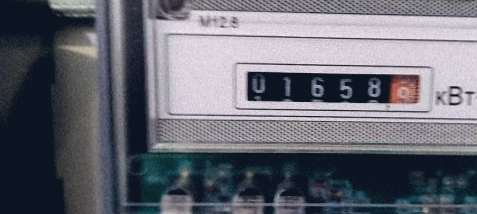0: (249, 72, 266, 93)
1: (279, 73, 293, 97)
5: (337, 75, 353, 99)
6: (308, 74, 326, 98)
8: (365, 76, 382, 98)
9: (394, 84, 410, 105)
screen: (230, 58, 436, 117)
